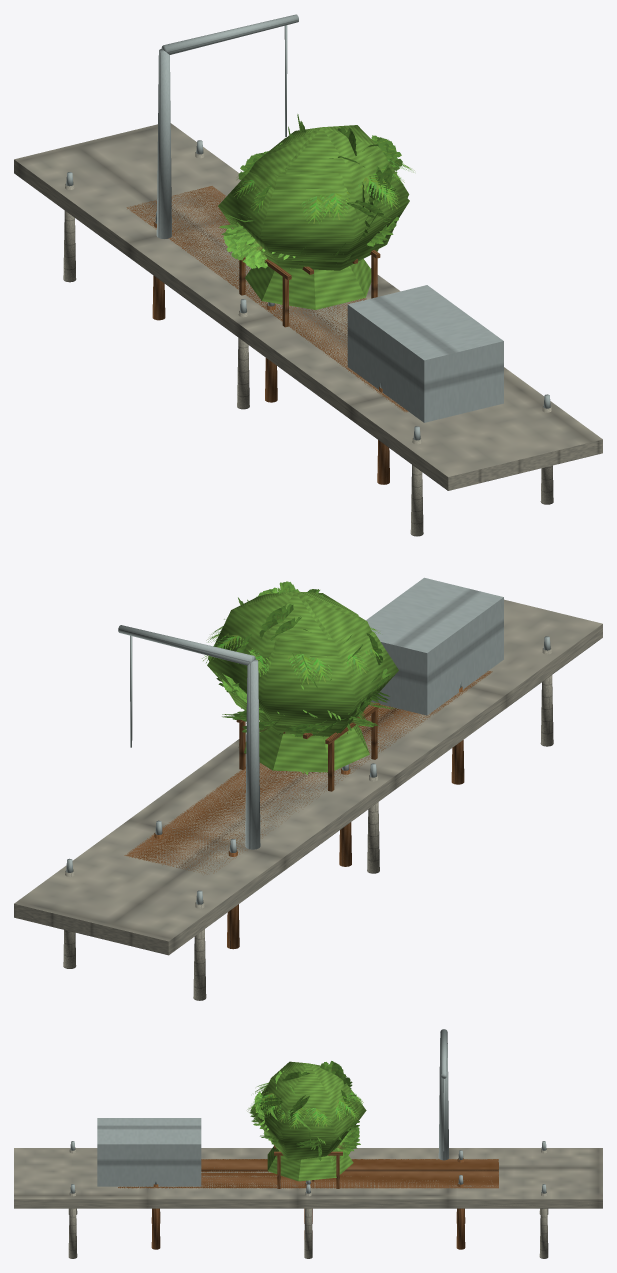
File: scenery.glb
3 views of the same model, one above another, from view 1: azimuth 30°, elevation 25°; view 2: azimuth 150°, elevation 25°; view 3: azimuth 270°, elevation 25° (orthographic). The views are drawn at different scales.
Parts seen in each view (by area): view 1: m_dock_mesh0, m_dock_mesh1, t_acacia_mesh2, f_dock_mesh0, t_oak_v1_mesh2, t_pine_mesh2, t_oak_mesh2, f_dock_mesh1, g_pergola_mesh0, t_pine_v1_mesh2, t_acacia_mesh0, t_palm_mesh0; view 2: m_dock_mesh0, m_dock_mesh1, f_dock_mesh0, t_acacia_mesh2, t_oak_v1_mesh2, t_pine_mesh2, t_oak_mesh2, g_pergola_mesh0, f_dock_mesh1, t_palm_mesh0, t_oak_v1_mesh0, t_oak_mesh0 (+3 smaller); view 3: m_dock_mesh1, m_dock_mesh0, t_oak_v1_mesh2, f_dock_mesh1, f_dock_mesh0, t_pine_mesh2, t_acacia_mesh2, t_palm_mesh0, t_oak_v1_mesh0, t_birch_v1_mesh0, t_acacia_mesh0, t_palm_mesh1 (+1 smaller).
Part boxes in pixels (bbox=[...]): m_dock_mesh0: bbox=[15, 14, 600, 536]; m_dock_mesh1: bbox=[14, 123, 602, 536]; t_acacia_mesh2: bbox=[218, 171, 409, 262]; f_dock_mesh0: bbox=[126, 190, 407, 484]; t_oak_v1_mesh2: bbox=[264, 125, 409, 263]; t_pine_mesh2: bbox=[245, 259, 371, 309]; t_oak_mesh2: bbox=[240, 134, 392, 270]; f_dock_mesh1: bbox=[127, 186, 408, 484]; g_pergola_mesh0: bbox=[239, 249, 380, 327]; t_pine_v1_mesh2: bbox=[314, 269, 353, 309]; t_acacia_mesh0: bbox=[219, 216, 393, 260]; t_palm_mesh0: bbox=[233, 162, 404, 219]; m_dock_mesh0: bbox=[15, 579, 601, 1000]; m_dock_mesh1: bbox=[14, 577, 602, 1000]; f_dock_mesh0: bbox=[126, 671, 490, 948]; t_acacia_mesh2: bbox=[207, 631, 398, 729]; t_oak_v1_mesh2: bbox=[208, 591, 359, 726]; t_pine_mesh2: bbox=[244, 721, 369, 772]; t_oak_mesh2: bbox=[248, 598, 382, 737]; g_pergola_mesh0: bbox=[236, 702, 380, 791]; f_dock_mesh1: bbox=[124, 671, 492, 948]; t_palm_mesh0: bbox=[202, 626, 368, 684]; t_oak_v1_mesh0: bbox=[226, 581, 379, 736]; t_oak_mesh0: bbox=[235, 620, 389, 736]; m_dock_mesh1: bbox=[14, 1118, 602, 1258]; m_dock_mesh0: bbox=[15, 1029, 601, 1258]; t_oak_v1_mesh2: bbox=[260, 1061, 358, 1160]; f_dock_mesh1: bbox=[118, 1159, 498, 1249]; f_dock_mesh0: bbox=[151, 1150, 497, 1249]; t_pine_mesh2: bbox=[268, 1151, 353, 1181]; t_acacia_mesh2: bbox=[250, 1084, 366, 1151]; t_palm_mesh0: bbox=[247, 1083, 362, 1126]; t_oak_v1_mesh0: bbox=[255, 1062, 359, 1159]; t_birch_v1_mesh0: bbox=[254, 1061, 359, 1156]; t_acacia_mesh0: bbox=[249, 1094, 360, 1155]; t_palm_mesh1: bbox=[253, 1089, 361, 1128].
Bounding box in the file's own units: 8.96 × 12.22 × 34.
2 materials, 2 textured.
